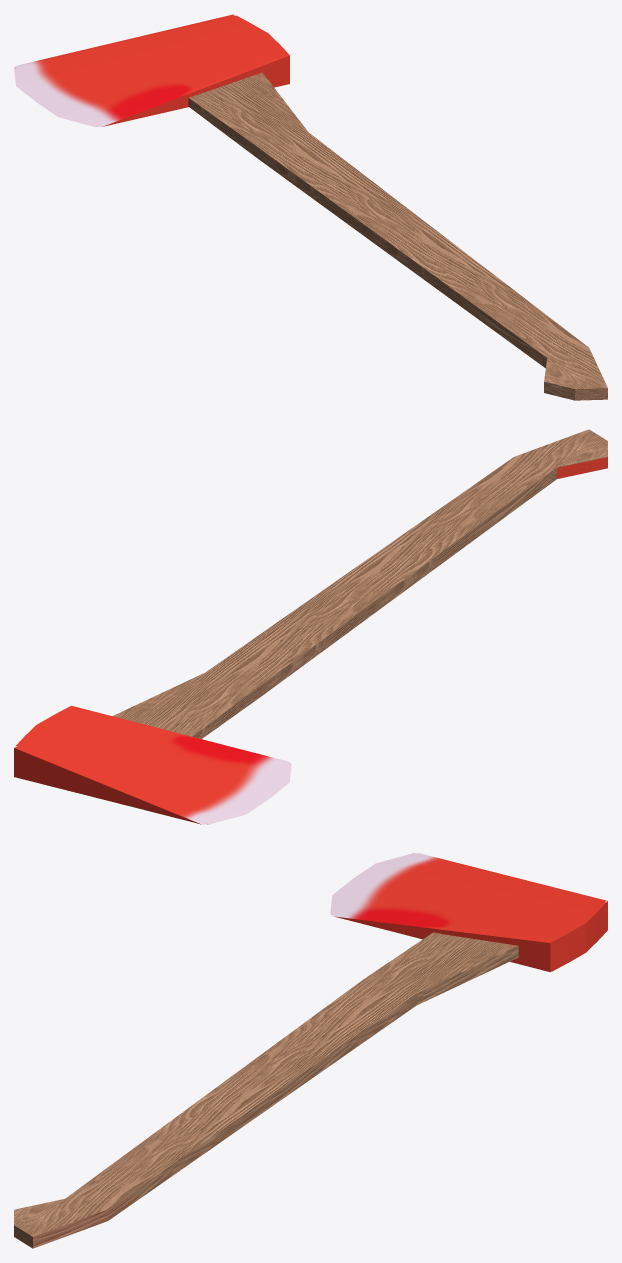
Rendered from fireAxe1.fbx.
3 views of the same model, one above another, from view 1: azimuth 30°, elevation 25°; view 2: azimuth 150°, elevation 25°; view 3: azimuth 330°, elevation 25° (orthographic). The views are drawn at different scales.
Parts seen in each view (by area): view 1: Cube; view 2: Cube; view 3: Cube.
Part boxes in pixels (bbox=[...]): Cube: bbox=[14, 14, 607, 400]; Cube: bbox=[14, 429, 607, 824]; Cube: bbox=[14, 853, 607, 1248].
Bounding box in the file's own units: 194 × 23.41 × 709.
